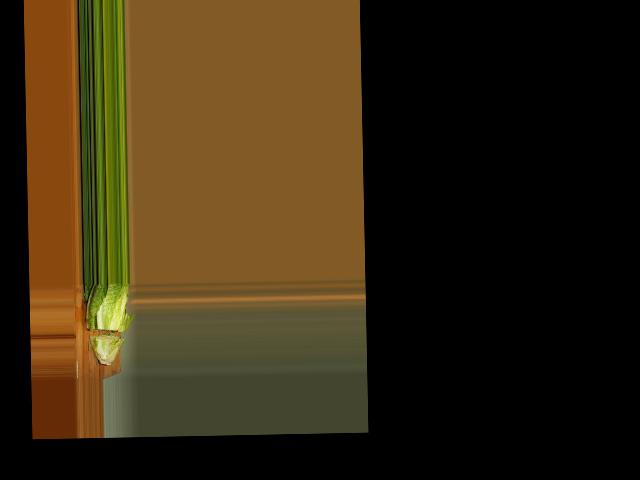lettuce: (80, 284, 132, 364)
